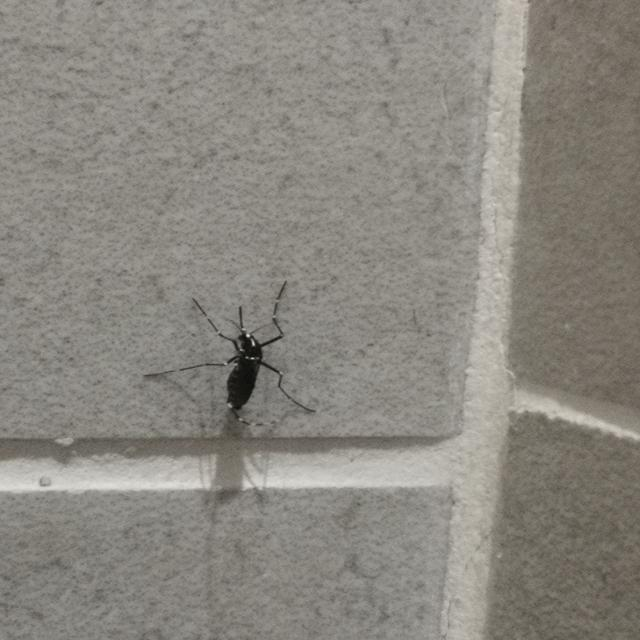albopictus: (141, 276, 326, 429)
